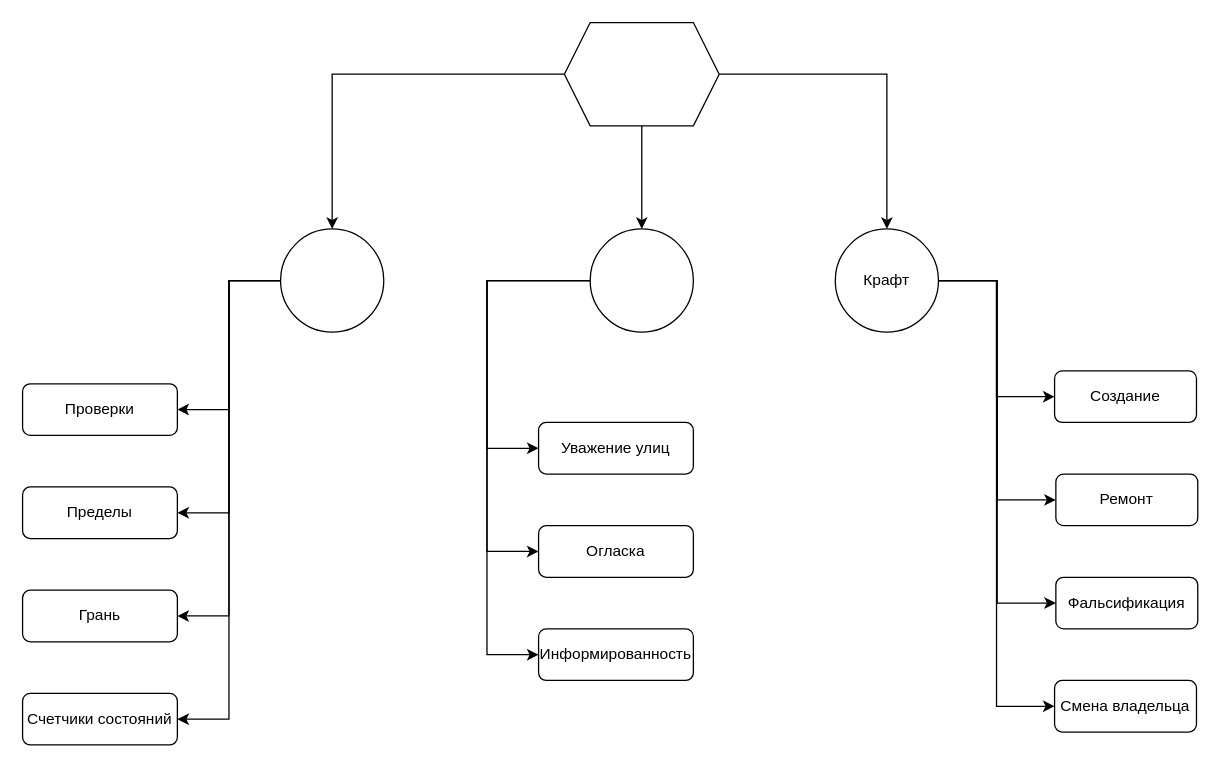
Some shapes in this 1220 by 768 pixel diagram are drawn without their labels. Here are the shapes that lost their labels. From the top down, the box of each, then its label:
(563, 21, 719, 126): Базовые Правила
(279, 228, 384, 332): Основные Механики
(589, 228, 693, 332): Известность
